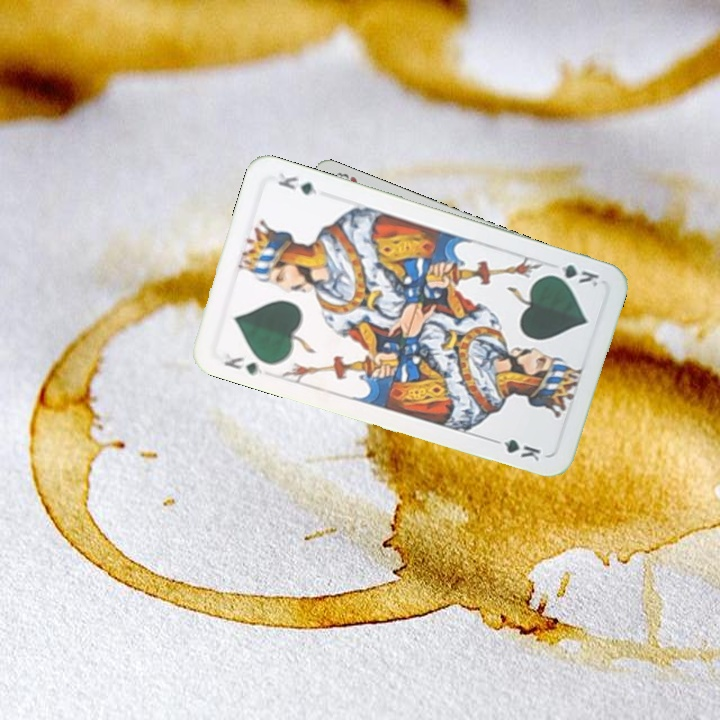GK: (544, 260, 602, 289), (219, 349, 265, 378)
